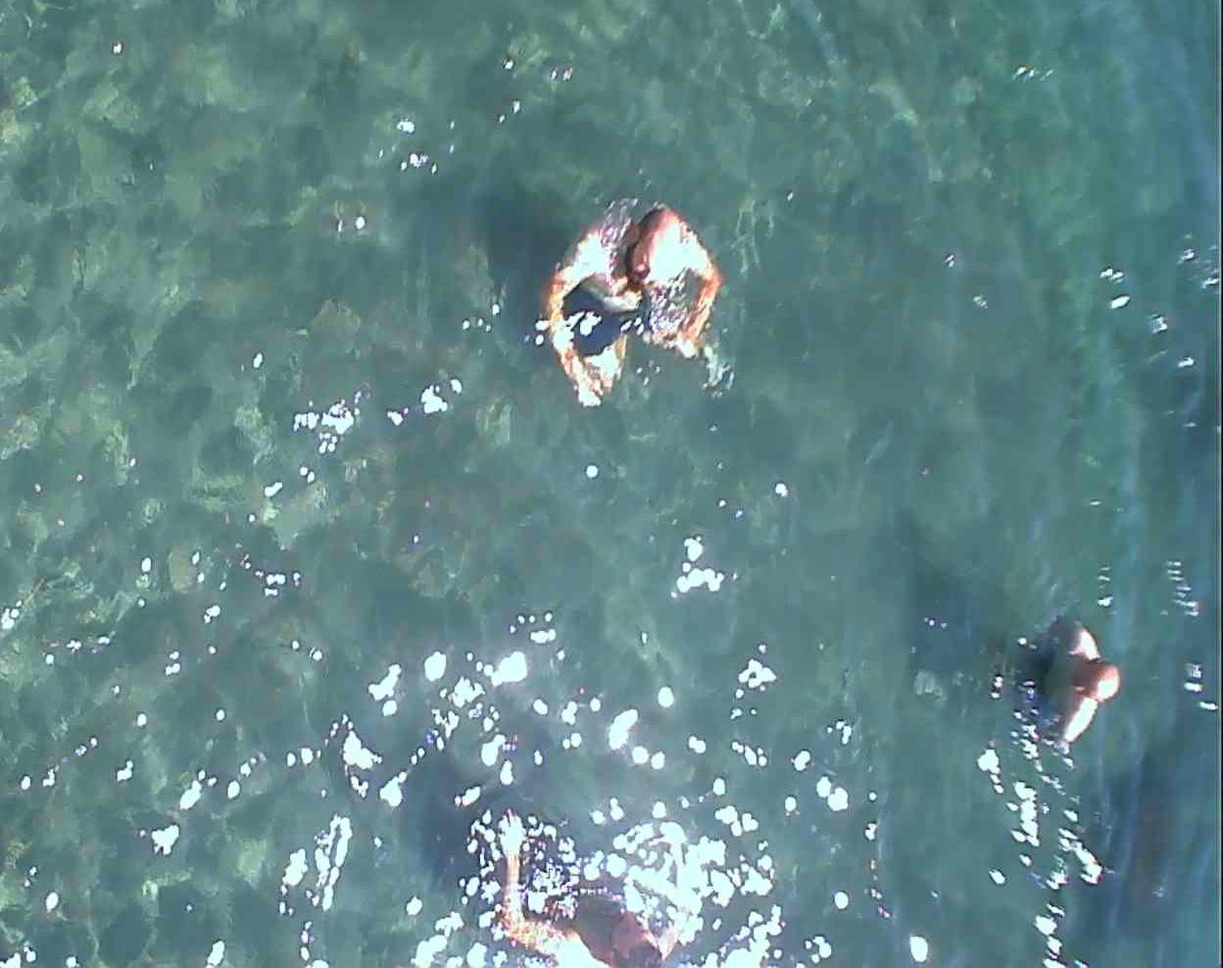human: (551, 177, 753, 398), (1030, 613, 1131, 762), (0, 1, 1, 1)
